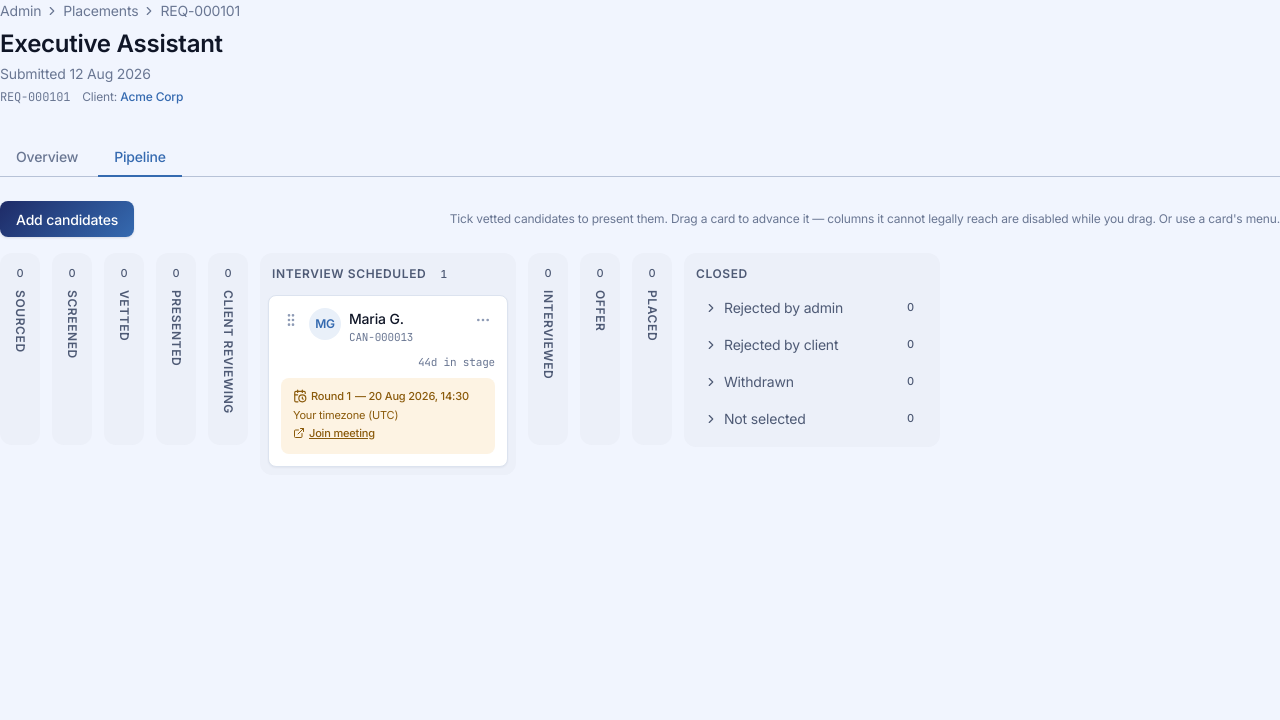
Test: outcome and cancel on interview_scheduled cards › records `passed` with notes — exact body — and the card shows the outcome chip at Interviewed
The image size is (1280, 720).
Expected: the text "Maria G." is shown, [349,310,404,327]
Expected: the text "Round 1 — 20 Aug 2026, 14:30" is shown, [293,388,483,404]
Click the button named "Actions for Maria G.".
click(483, 320)  # box [471,308,495,332]
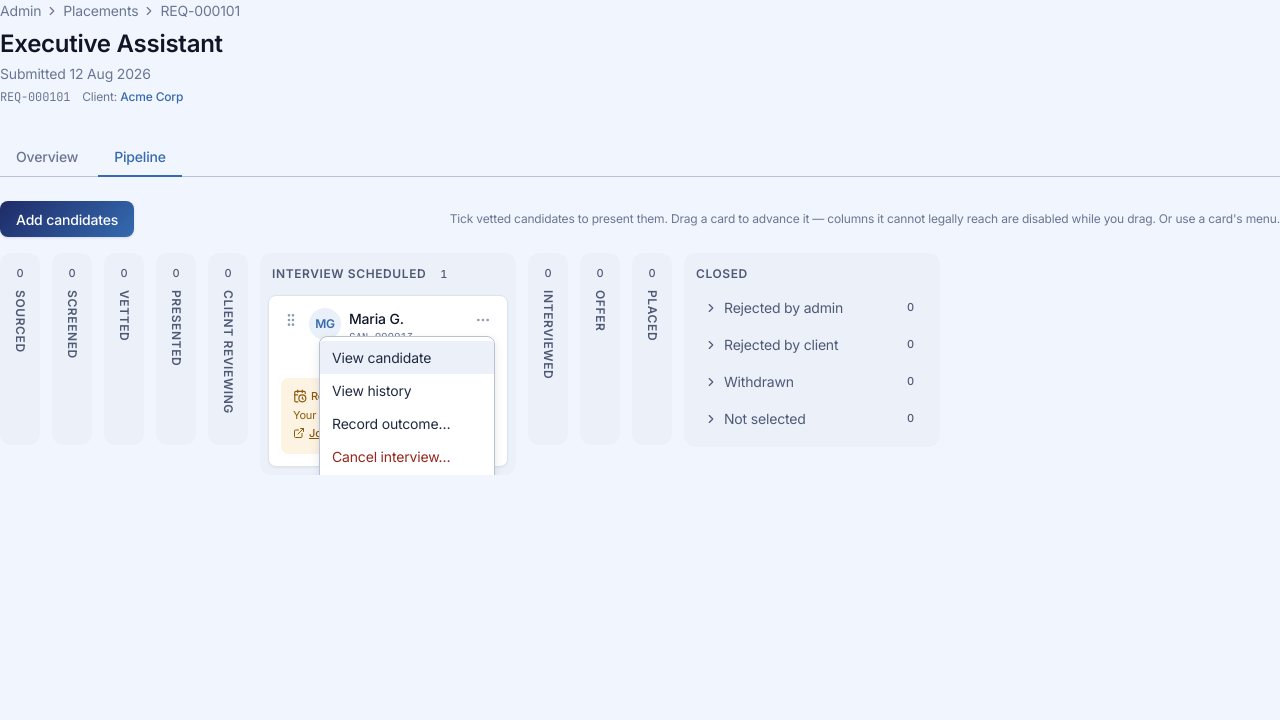
Click the menu item "Record outcome…".
click(407, 424)  # box [320,407,494,440]
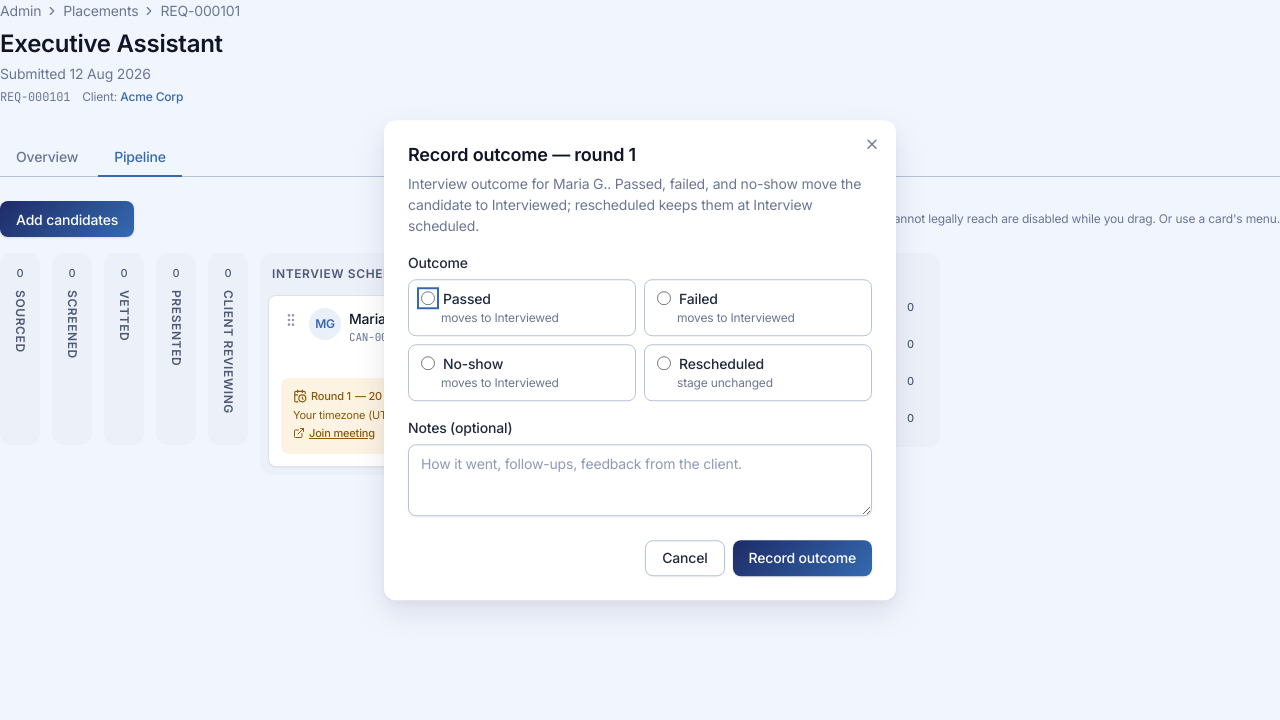
Click the button "Record outcome".
click(802, 558)  # box [733,540,872,576]
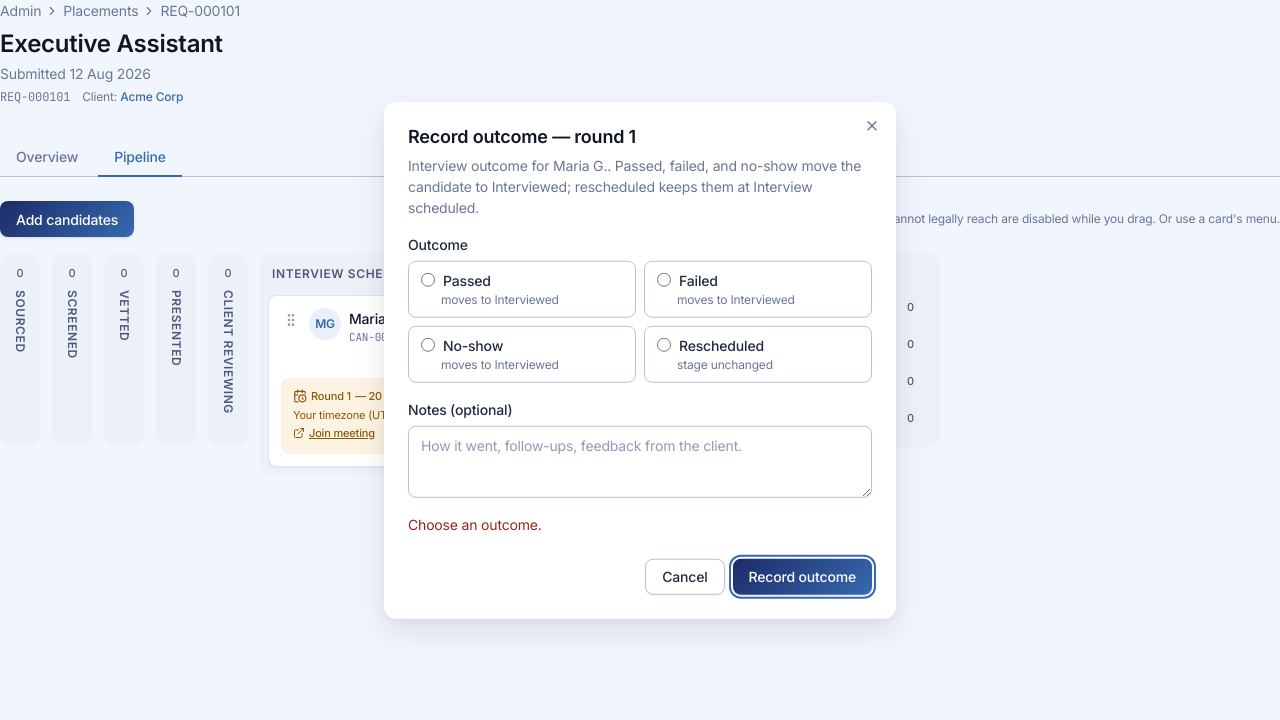
Expected: the text "Choose an outcome." is shown, [408,515,542,532]
Click the radio button labelled "Passed moves to Interviewed".
click(428, 280)  # box [421,273,435,287]
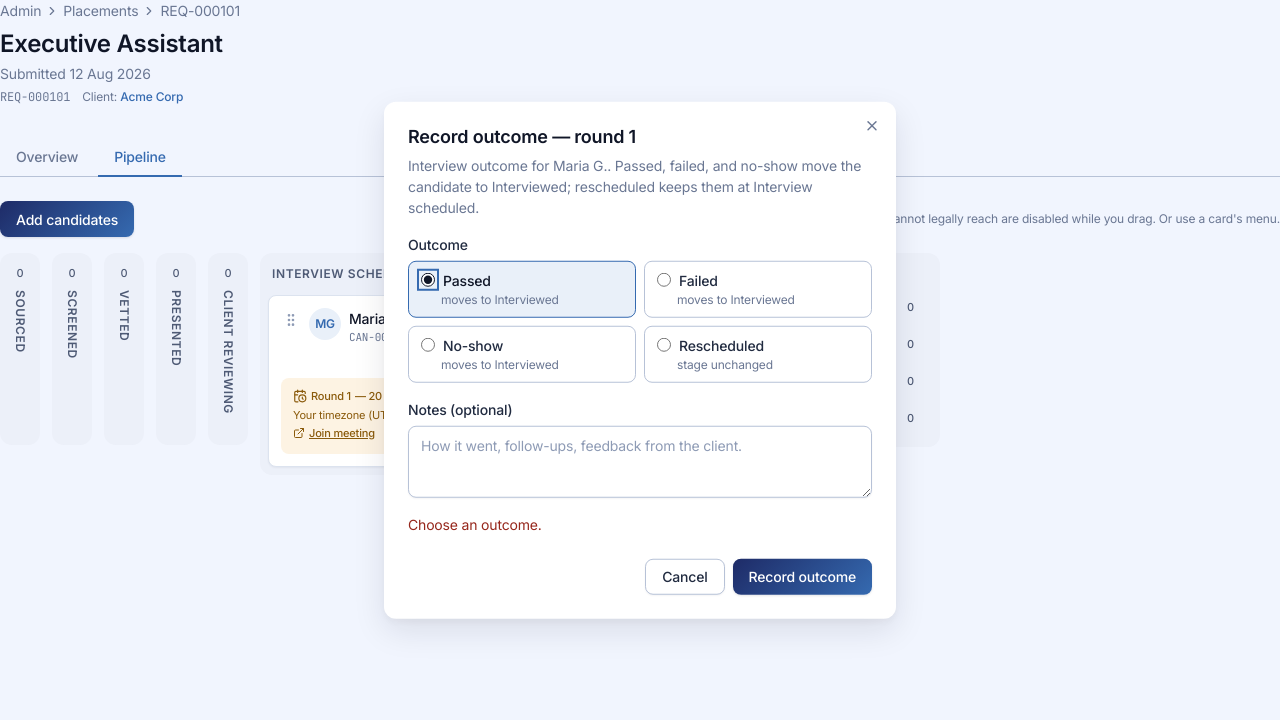
Type "Great fit" into the text box labelled "Notes (optional)".
click(640, 461); type("Great fit")  # box [408,425,872,497]
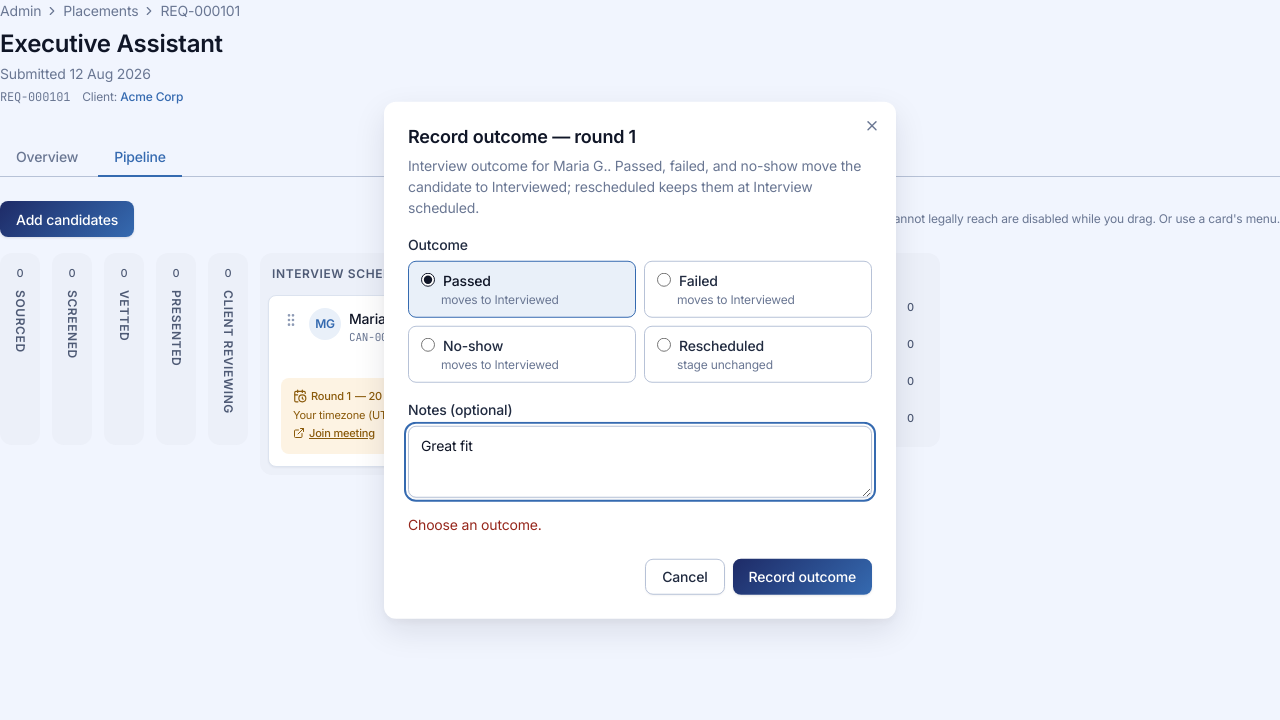
Click the button "Record outcome".
click(802, 576)  # box [733,558,872,594]
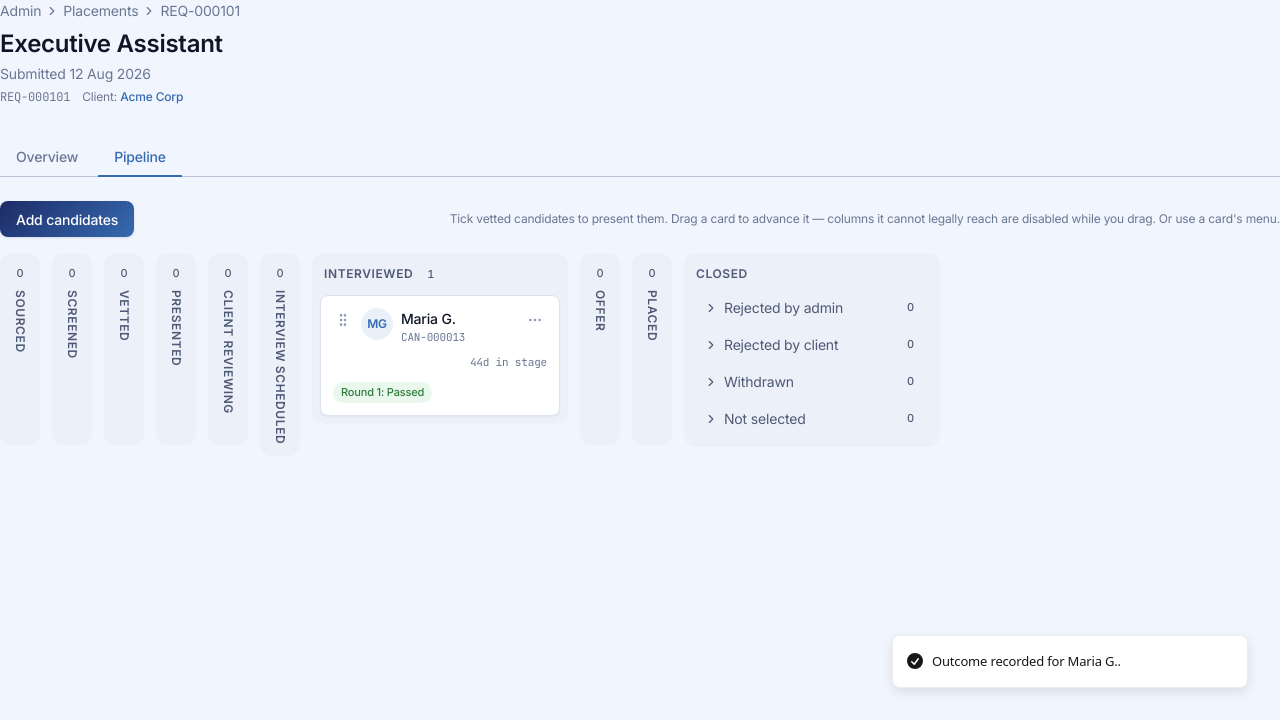
Expected: the text "Maria G." is shown, [401,310,456,327]
Expected: the text "Round 1: Passed" is shown, [333,382,432,402]
